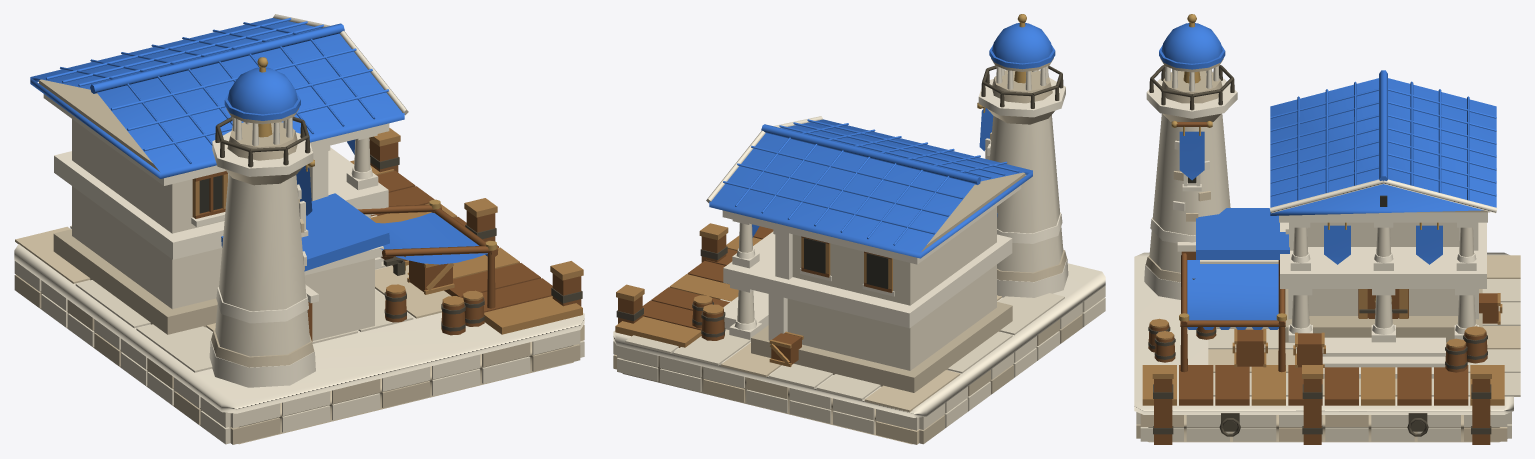
3 views of the same model, side by side, from view 1: azimuth 30°, elevation 25°; view 2: azimuth 150°, elevation 25°; view 3: azimuth 270°, elevation 25° (orthographic). The views are drawn at different scales.
Parts seen in each view (by area): view 1: hall-roof, quay-coping, lighthouse-shaft, hall-lower, hall-floor-cornice, hall-upper, hall-footing, service-wing, service-blue-roof, harbor-awning, roof-ridge, lighthouse-blue-dome (+47 smaller); view 2: hall-roof, hall-lower, lighthouse-shaft, hall-floor-cornice, hall-upper, quay-coping, hall-footing, roof-ridge, hall-upper-frieze, lighthouse-blue-dome, hall-upper-shadowline, dock-plank-0 (+47 smaller); view 3: hall-roof, quay-coping, hall-floor-cornice, lighthouse-shaft, harbor-awning, service-blue-roof, hall-footing, hall-lower, entrance-step-0, hall-upper, hall-upper-frieze, lighthouse-blue-dome (+62 smaller).
Boxes of the visible parts, bbox=[...] form: hall-roof: bbox=[30, 18, 404, 178]; quay-coping: bbox=[14, 244, 584, 413]; lighthouse-shaft: bbox=[215, 174, 310, 356]; hall-lower: bbox=[72, 186, 222, 309]; hall-floor-cornice: bbox=[54, 147, 388, 259]; hall-upper: bbox=[72, 119, 308, 233]; hall-footing: bbox=[53, 229, 217, 334]; service-wing: bbox=[304, 258, 374, 340]; service-blue-roof: bbox=[221, 193, 389, 271]; harbor-awning: bbox=[376, 212, 487, 264]; roof-ridge: bbox=[90, 23, 344, 93]; lighthouse-blue-dome: bbox=[227, 67, 297, 114]; hall-roof: bbox=[709, 119, 1032, 258]; hall-lower: bbox=[787, 264, 996, 370]; lighthouse-shaft: bbox=[989, 115, 1063, 272]; hall-floor-cornice: bbox=[723, 231, 1012, 328]; hall-upper: bbox=[792, 206, 996, 305]; quay-coping: bbox=[613, 263, 1105, 417]; hall-footing: bbox=[751, 302, 1012, 392]; roof-ridge: bbox=[761, 124, 980, 184]; hall-upper-frieze: bbox=[722, 185, 1021, 264]; lighthouse-blue-dome: bbox=[992, 23, 1052, 63]; hall-upper-shadowline: bbox=[921, 172, 1025, 251]; dock-plank-0: bbox=[615, 316, 701, 347]; hall-roof: bbox=[1270, 78, 1496, 215]; quay-coping: bbox=[1134, 252, 1513, 414]; hall-floor-cornice: bbox=[1280, 222, 1486, 288]; lighthouse-shaft: bbox=[1149, 113, 1230, 272]; harbor-awning: bbox=[1187, 260, 1278, 320]; service-blue-roof: bbox=[1196, 208, 1289, 259]; hall-footing: bbox=[1285, 289, 1482, 342]; hall-lower: bbox=[1308, 289, 1458, 315]; entrance-step-0: bbox=[1322, 337, 1445, 356]; hall-upper: bbox=[1307, 222, 1459, 246]; hall-upper-frieze: bbox=[1279, 212, 1487, 222]; lighthouse-blue-dome: bbox=[1161, 23, 1222, 63].
Size of the model in its own units: 1.76 by 1.6 by 1.84.
